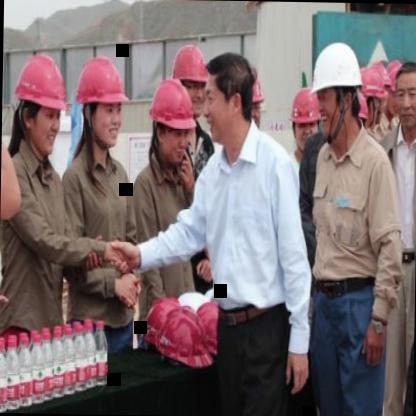head: (202, 51, 258, 155), (393, 61, 416, 132)
helmet: (11, 53, 70, 160), (75, 54, 130, 150), (309, 40, 358, 140), (148, 77, 198, 169), (172, 42, 208, 117), (286, 84, 324, 152), (360, 65, 386, 128)
